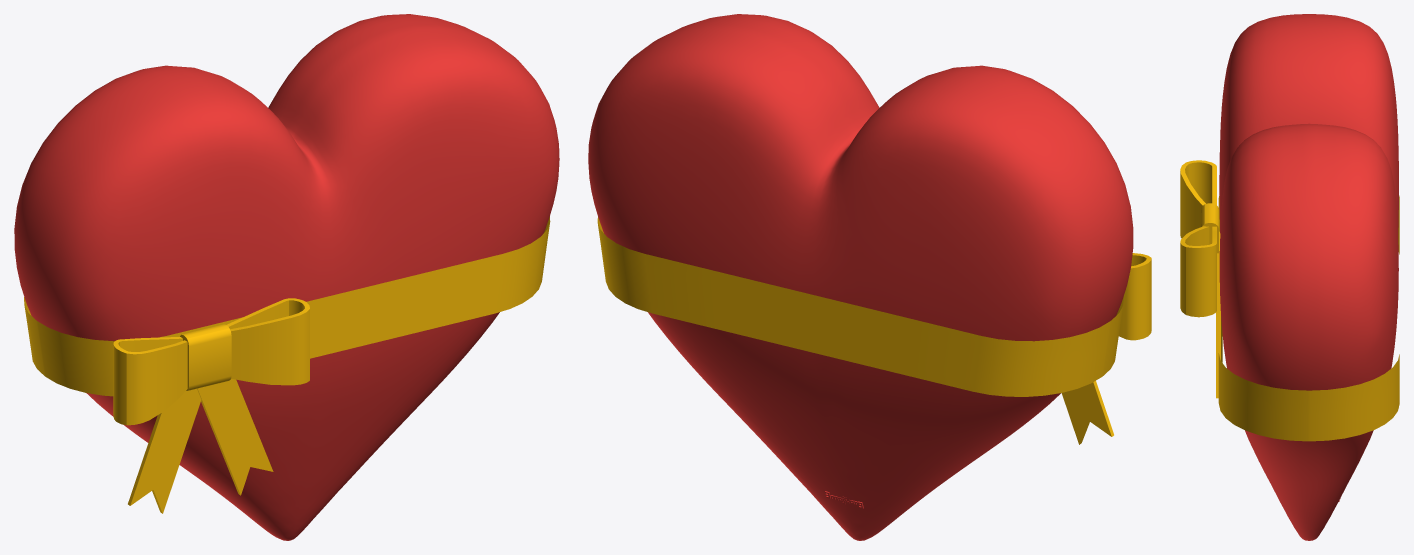
Rendered from heart_with_ribbon.glb.
3 views of the same model, side by side, from view 1: azimuth 30°, elevation 25°; view 2: azimuth 150°, elevation 25°; view 3: azimuth 270°, elevation 25° (orthographic). The views are drawn at different scales.
Visible parts, largest first — view 1: hfdjkslfjkds.003, Cube.010, Plane.007; view 2: hfdjkslfjkds.003, Plane.007, Cube.010; view 3: hfdjkslfjkds.003, Plane.007, Cube.010.
Part boxes in pixels (box(x1,y1,x2,y2)): hfdjkslfjkds.003: box(14, 14, 559, 540); Cube.010: box(113, 298, 309, 513); Plane.007: box(24, 216, 550, 396); hfdjkslfjkds.003: box(588, 14, 1133, 540); Plane.007: box(597, 217, 1123, 396); Cube.010: box(1061, 253, 1151, 444); hfdjkslfjkds.003: box(1219, 14, 1398, 540); Plane.007: box(1218, 195, 1399, 441); Cube.010: box(1180, 160, 1222, 398).
Size of the model in its own units: 1.86 by 1.68 by 0.7278.
Materials: 1 (1 with a texture image).
